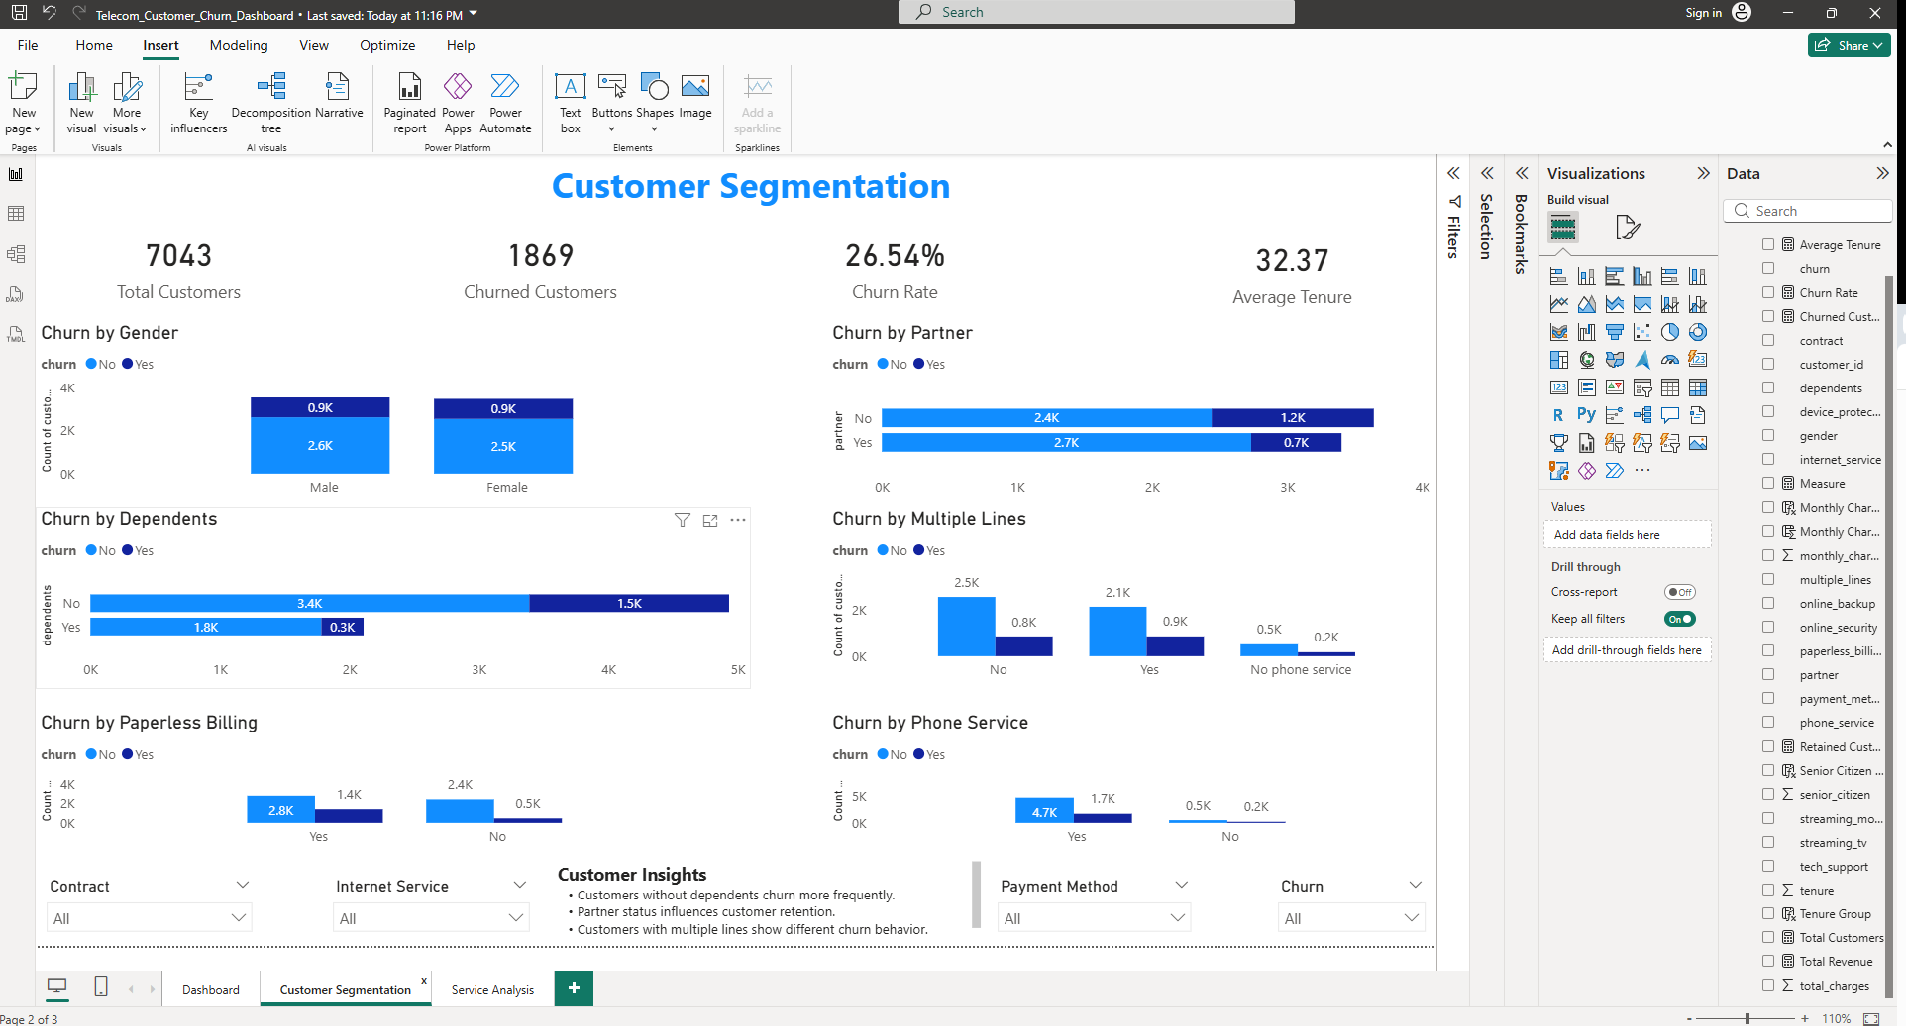

The dashboard page shown, as its layout file describes it:
{"tool":"powerbi","page":{"name":"Customer Segmentation","canvas":[1280,720],"ordinal":1},"visuals":[{"type":"slicer","fields":{"Values":["telecom_customer_churn.contract"]},"box":[0,651.8,208.2,67.9],"z":0},{"type":"slicer","fields":{"Values":["telecom_customer_churn.internet_service"]},"box":[261.6,651.8,200.1,67.9],"z":1000},{"type":"slicer","fields":{"Values":["telecom_customer_churn.payment_method"]},"box":[869,651.8,197.3,67.9],"z":2000},{"type":"slicer","fields":{"Values":["telecom_customer_churn.churn"]},"box":[1125.2,651.8,154.8,58.8],"z":3000},{"type":"card","fields":{"Values":["telecom_customer_churn.Total Customers"]},"box":[0,61.6,261.6,76.9],"z":4000},{"type":"card","fields":{"Values":["telecom_customer_churn.Average Tenure"]},"box":[1017.5,66.1,261.6,76.9],"z":5000},{"type":"card","fields":{"Values":["telecom_customer_churn.Churned Customers"]},"box":[330.4,61.6,261.6,76.9],"z":6000},{"type":"card","fields":{"Values":["telecom_customer_churn.Churn Rate"]},"box":[654.5,61.6,261.6,76.9],"z":7000},{"type":"columnChart","title":"Churn by Gender","fields":{"Category":["telecom_customer_churn.gender"],"Y":["CountNonNull(telecom_customer_churn.customer_id)"],"Series":["telecom_customer_churn.churn"]},"box":[0,151.2,653.6,169.3],"z":8000},{"type":"barChart","title":"Churn by Partner","fields":{"Category":["telecom_customer_churn.partner"],"Y":["CountNonNull(telecom_customer_churn.customer_id)"],"Series":["telecom_customer_churn.churn"]},"box":[723.3,151.2,555.8,169.3],"z":9000},{"type":"barChart","title":"Churn by Dependents","fields":{"Category":["telecom_customer_churn.dependents"],"Y":["CountNonNull(telecom_customer_churn.customer_id)"],"Series":["telecom_customer_churn.churn"]},"box":[0,320.5,653.6,165.7],"z":10000},{"type":"clusteredColumnChart","title":"Churn by Multiple Lines","fields":{"Category":["telecom_customer_churn.multiple_lines"],"Y":["CountNonNull(telecom_customer_churn.customer_id)"],"Series":["telecom_customer_churn.churn"]},"box":[723.3,320.5,548.6,165.7],"z":11000},{"type":"clusteredColumnChart","title":"Churn by Paperless Billing","fields":{"Category":["telecom_customer_churn.paperless_billing"],"Y":["CountNonNull(telecom_customer_churn.customer_id)"],"Series":["telecom_customer_churn.churn"]},"box":[0,506,640,131.3],"z":12000},{"type":"clusteredColumnChart","title":"Churn by Phone Service","fields":{"Category":["telecom_customer_churn.phone_service"],"Y":["CountNonNull(telecom_customer_churn.customer_id)"],"Series":["telecom_customer_churn.churn"]},"box":[723.3,506,555.8,131.3],"z":13000},{"type":"textbox","box":[390.2,0,527.8,66.1],"z":14000},{"type":"textbox","box":[471.6,637.3,397.4,82.4],"z":15000}]}

Visuals, with their boxes on the page's 1280x720 design canvas (x1, y1, x2, y2). These are canvas units, not pixel positions in the 1906x1026 screenshot, which may show the page scaled, cropped or inside an application window:
slicer - telecom_customer_churn.contract: {"x1": 0, "y1": 652, "x2": 208, "y2": 720}
slicer - telecom_customer_churn.internet_service: {"x1": 262, "y1": 652, "x2": 462, "y2": 720}
slicer - telecom_customer_churn.payment_method: {"x1": 869, "y1": 652, "x2": 1066, "y2": 720}
slicer - telecom_customer_churn.churn: {"x1": 1125, "y1": 652, "x2": 1280, "y2": 711}
card - telecom_customer_churn.Total Customers: {"x1": 0, "y1": 62, "x2": 262, "y2": 138}
card - telecom_customer_churn.Average Tenure: {"x1": 1018, "y1": 66, "x2": 1279, "y2": 143}
card - telecom_customer_churn.Churned Customers: {"x1": 330, "y1": 62, "x2": 592, "y2": 138}
card - telecom_customer_churn.Churn Rate: {"x1": 654, "y1": 62, "x2": 916, "y2": 138}
"Churn by Gender" columnChart: {"x1": 0, "y1": 151, "x2": 654, "y2": 320}
"Churn by Partner" barChart: {"x1": 723, "y1": 151, "x2": 1279, "y2": 320}
"Churn by Dependents" barChart: {"x1": 0, "y1": 320, "x2": 654, "y2": 486}
"Churn by Multiple Lines" clusteredColumnChart: {"x1": 723, "y1": 320, "x2": 1272, "y2": 486}
"Churn by Paperless Billing" clusteredColumnChart: {"x1": 0, "y1": 506, "x2": 640, "y2": 637}
"Churn by Phone Service" clusteredColumnChart: {"x1": 723, "y1": 506, "x2": 1279, "y2": 637}
textbox: {"x1": 390, "y1": 0, "x2": 918, "y2": 66}
textbox: {"x1": 472, "y1": 637, "x2": 869, "y2": 720}
